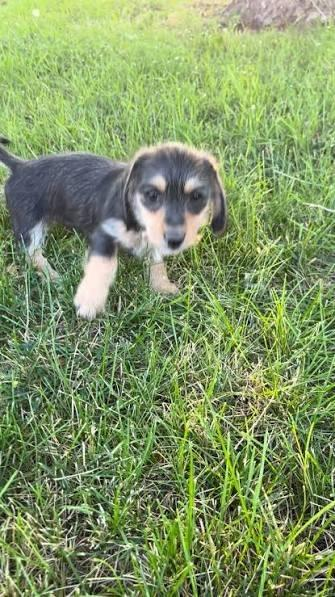puppy-dog: (0, 136, 227, 321)
